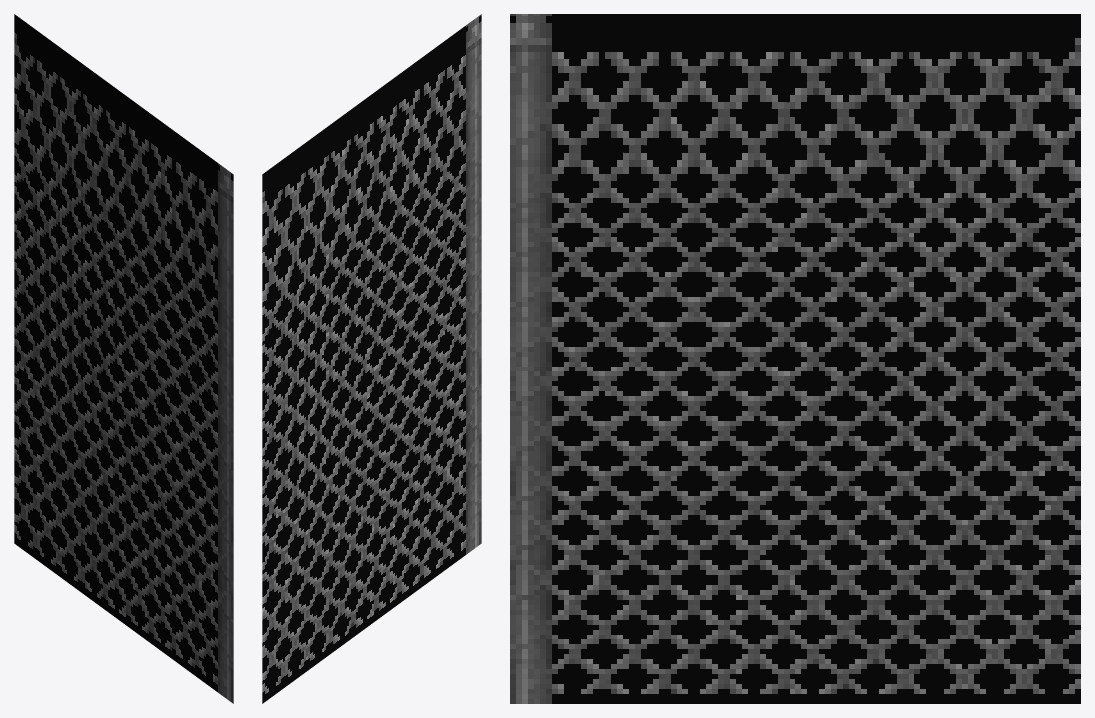
File: fence.glb
The picture shows the model from 3 angles, left to right: view 1: azimuth 30°, elevation 25°; view 2: azimuth 150°, elevation 25°; view 3: azimuth 270°, elevation 25°; orthographic projection. The views are drawn at different scales.
Parts seen in each view (by area): view 1: Plane; view 2: Plane; view 3: Plane.
Boxes of the visible parts, x1,y1,x2,y2 form: Plane: (14,14,233,703); Plane: (262,14,481,703); Plane: (510,14,1080,703).
Size of the model in its own units: 1.51e-07 by 2 by 1.5.
Materials: 1 (1 with a texture image).
